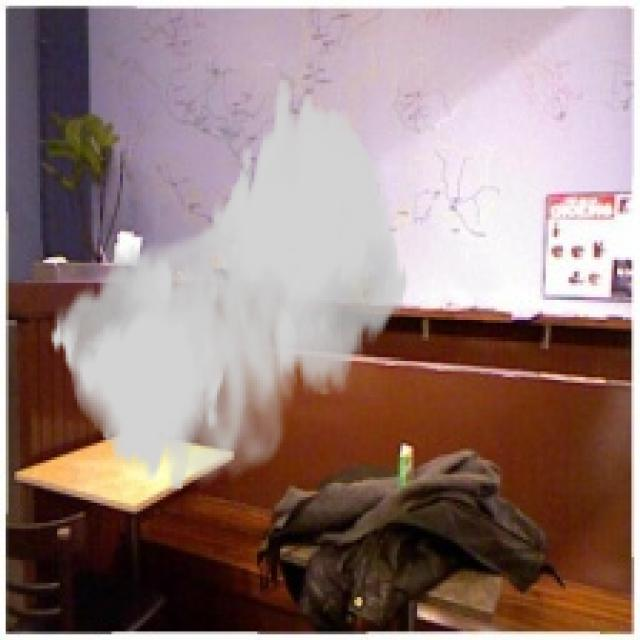smoke: (49, 80, 408, 491)
